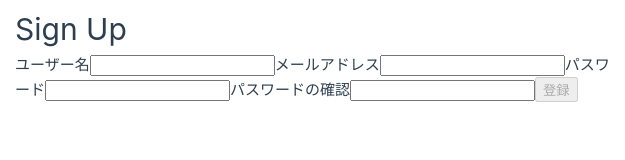
Scenario: SignUpPage › インタラクション › 全フォームを入力済み、かつパスワードとパスワード確認が同じ値の場合、登録のdisabledが解除される
Type "Usern" into the field labelled "ユーザー名".
click(182, 65); type("Usern")  # box [90,54,275,76]
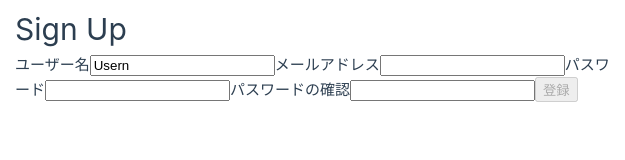
Type "user@example.com" into the field labelled "メールアドレス".
click(472, 65); type("user@example.com")  # box [380,54,565,76]
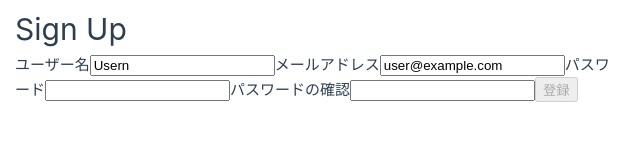
Type "P4ssw0rd" into the password field labelled "パスワード".
click(138, 90); type("P4ssw0rd")  # box [45,80,230,100]
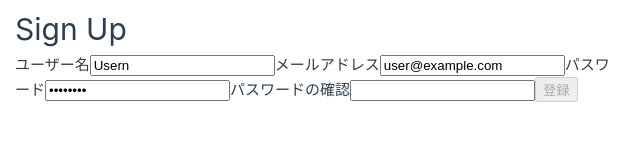
Type "P4ssw0rd" into the password field labelled "パスワードの確認".
click(442, 90); type("P4ssw0rd")  # box [350,80,535,100]
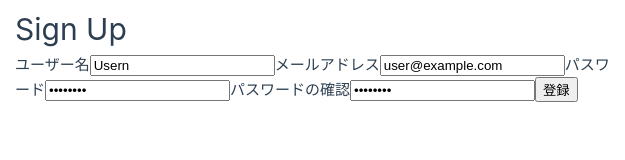
Check: the button "登録" is enabled, box [535,76,578,102]
